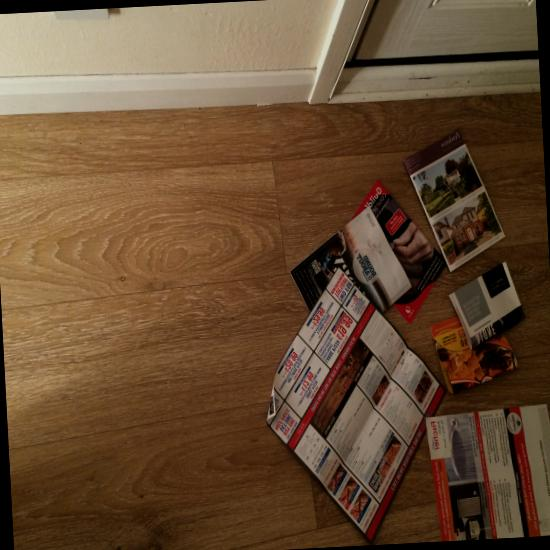Magazine paper: (266, 266, 447, 545), (426, 404, 550, 542), (404, 129, 506, 272), (347, 179, 446, 325), (290, 206, 412, 314), (430, 316, 518, 395), (449, 261, 525, 350)
